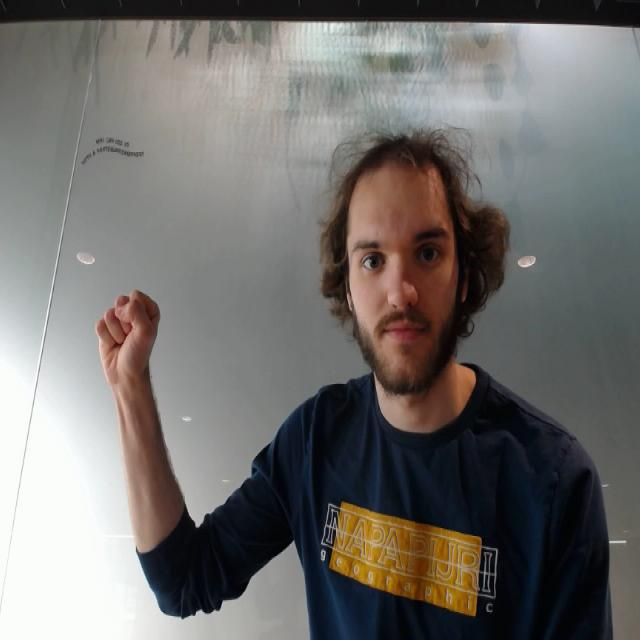stop: (93, 284, 164, 388)
